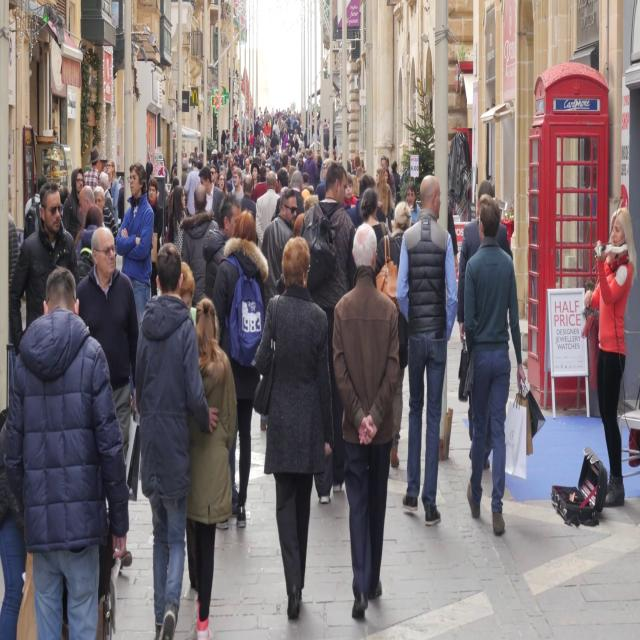body: (7, 266, 130, 640), (132, 240, 218, 640), (256, 232, 336, 626), (331, 216, 403, 622), (463, 193, 528, 542), (395, 171, 457, 528), (76, 224, 140, 569), (301, 162, 359, 506), (186, 296, 238, 640), (582, 206, 638, 508), (456, 178, 513, 472), (216, 206, 266, 532), (12, 180, 80, 355), (373, 200, 413, 468), (115, 161, 154, 335), (148, 149, 214, 249), (0, 381, 25, 640), (260, 188, 298, 321), (64, 145, 124, 227), (203, 192, 242, 298), (252, 105, 282, 233), (282, 100, 325, 188), (344, 154, 394, 229), (213, 108, 252, 195), (3, 170, 39, 258), (179, 259, 198, 329), (396, 156, 419, 210), (324, 118, 350, 164)
